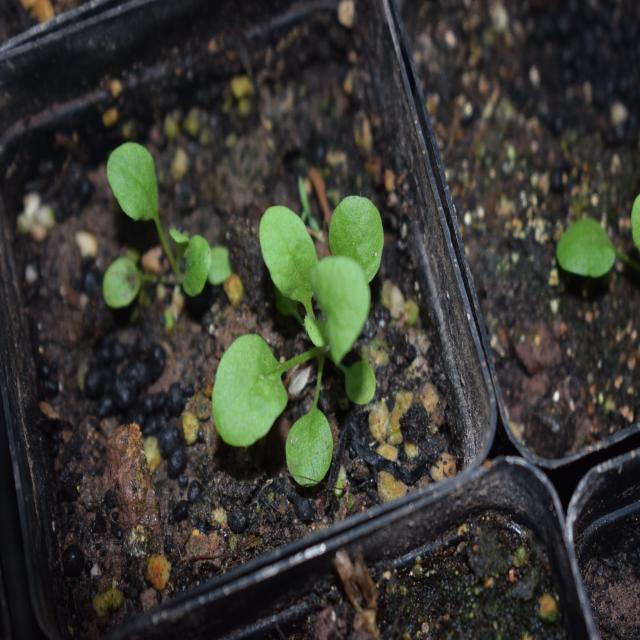Shepherd_Purse: (218, 185, 400, 491)
